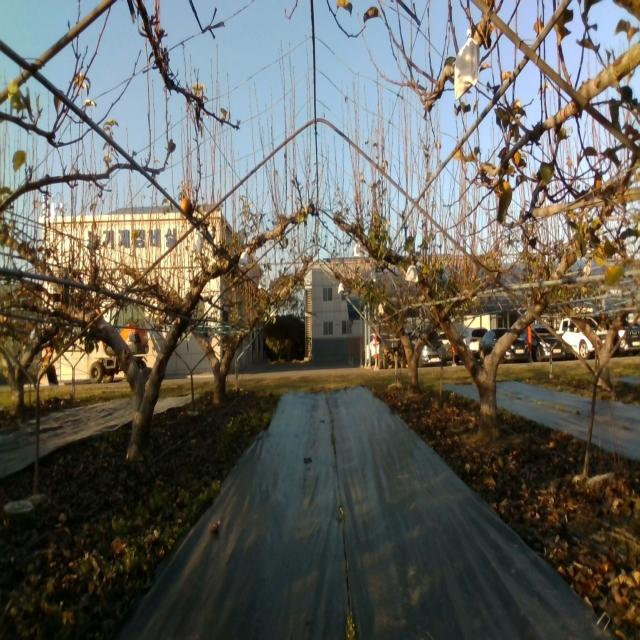pearbags: (454, 28, 481, 102), (191, 228, 204, 255), (404, 260, 418, 282), (238, 248, 249, 270)
